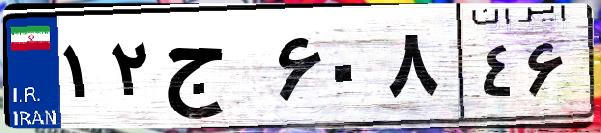0: (330, 28, 385, 110)
1: (57, 26, 110, 100)
2: (110, 28, 158, 98)
4: (475, 38, 525, 113)
6: (270, 28, 330, 110), (525, 38, 570, 115)
8: (385, 28, 445, 110)
ج: (158, 20, 270, 120)
